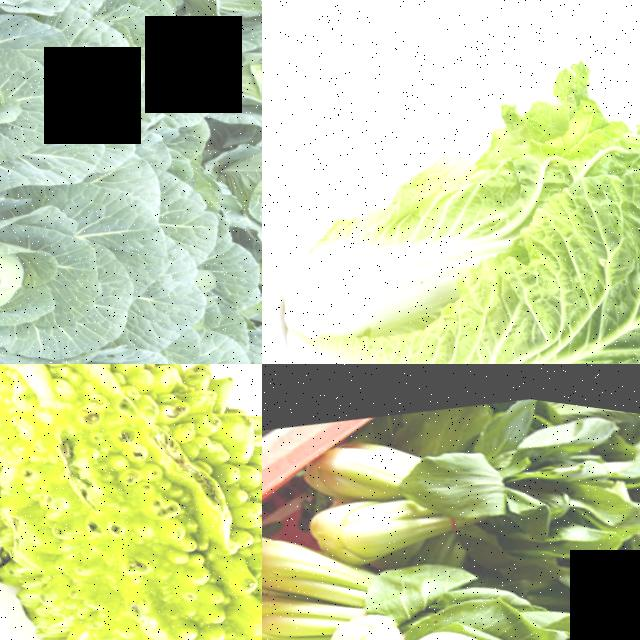bitter gourd: (0, 364, 262, 640)
bok choy: (303, 367, 640, 588)
cabbage: (262, 0, 640, 364), (0, 164, 137, 364), (0, 0, 107, 231)
